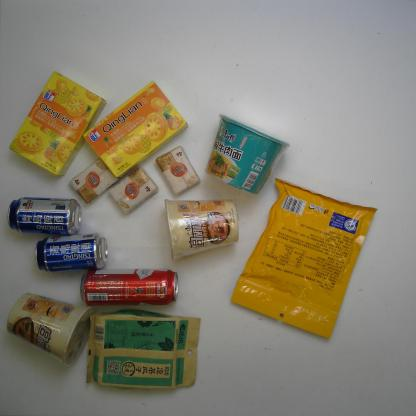Alcohol: (78, 268, 180, 307), (34, 233, 111, 273), (8, 196, 84, 236)
Dessert: (82, 79, 190, 178), (11, 70, 107, 177)
Dried Food: (83, 308, 203, 390)
Dried Fruit: (228, 178, 379, 340)
Instant Noodles: (205, 114, 292, 195), (6, 294, 91, 366), (164, 198, 240, 260)
Tissue: (108, 167, 160, 217), (68, 159, 119, 207), (155, 145, 200, 198)
